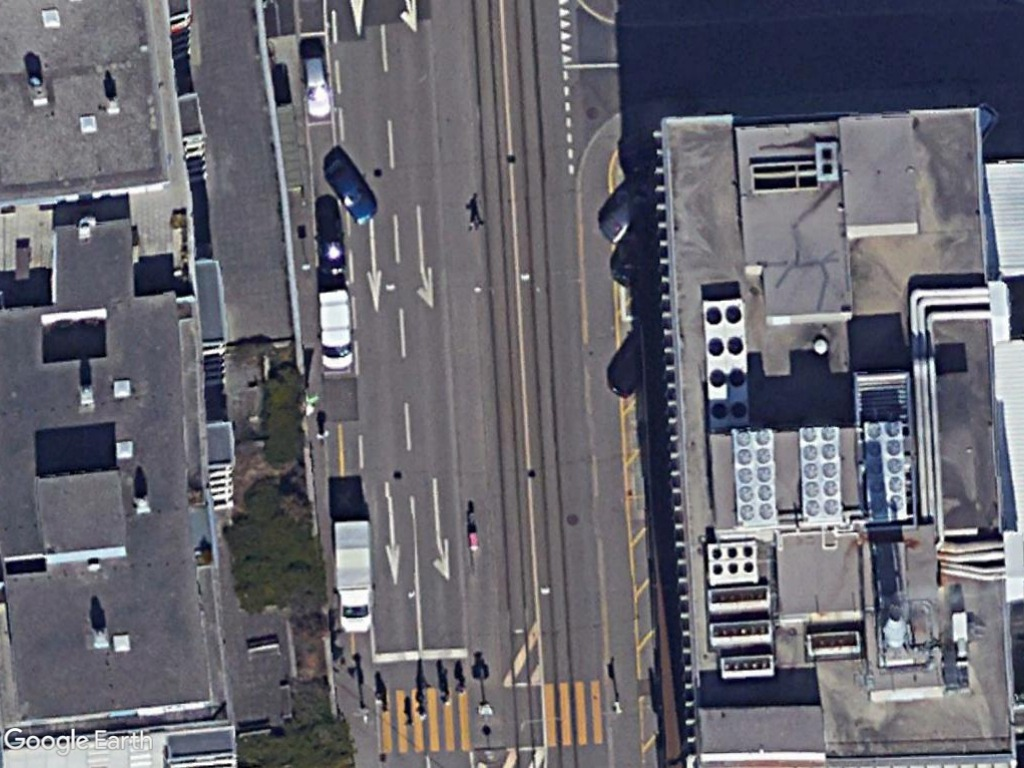car: (323, 155, 380, 226)
truck: (331, 519, 377, 635)
van: (317, 287, 356, 372)
